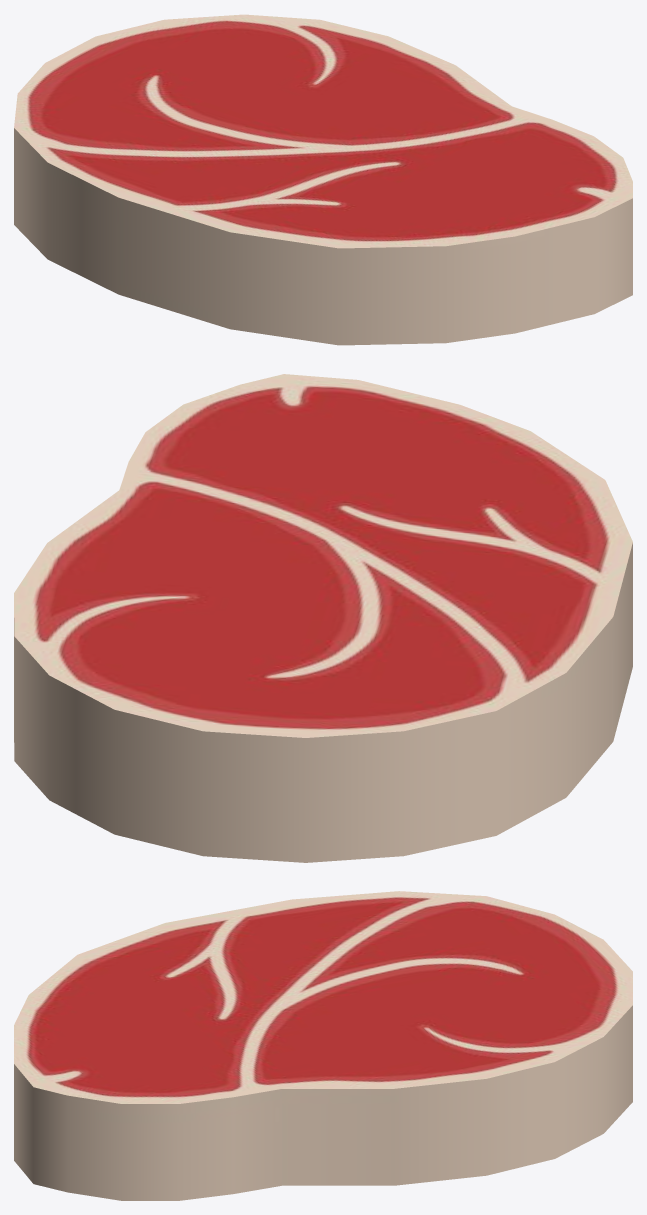
The model's file is steak.glb.
3 renders of one model, top to bottom at view 1: azimuth 30°, elevation 25°; view 2: azimuth 150°, elevation 25°; view 3: azimuth 270°, elevation 25°, orthographic. The views are drawn at different scales.
Size of the model in its own units: 0.8137 by 0.1727 by 1.
Materials: 1 (1 with a texture image).
